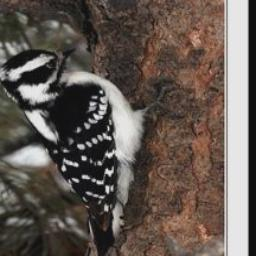Woodpecker: (0, 48, 174, 256)
